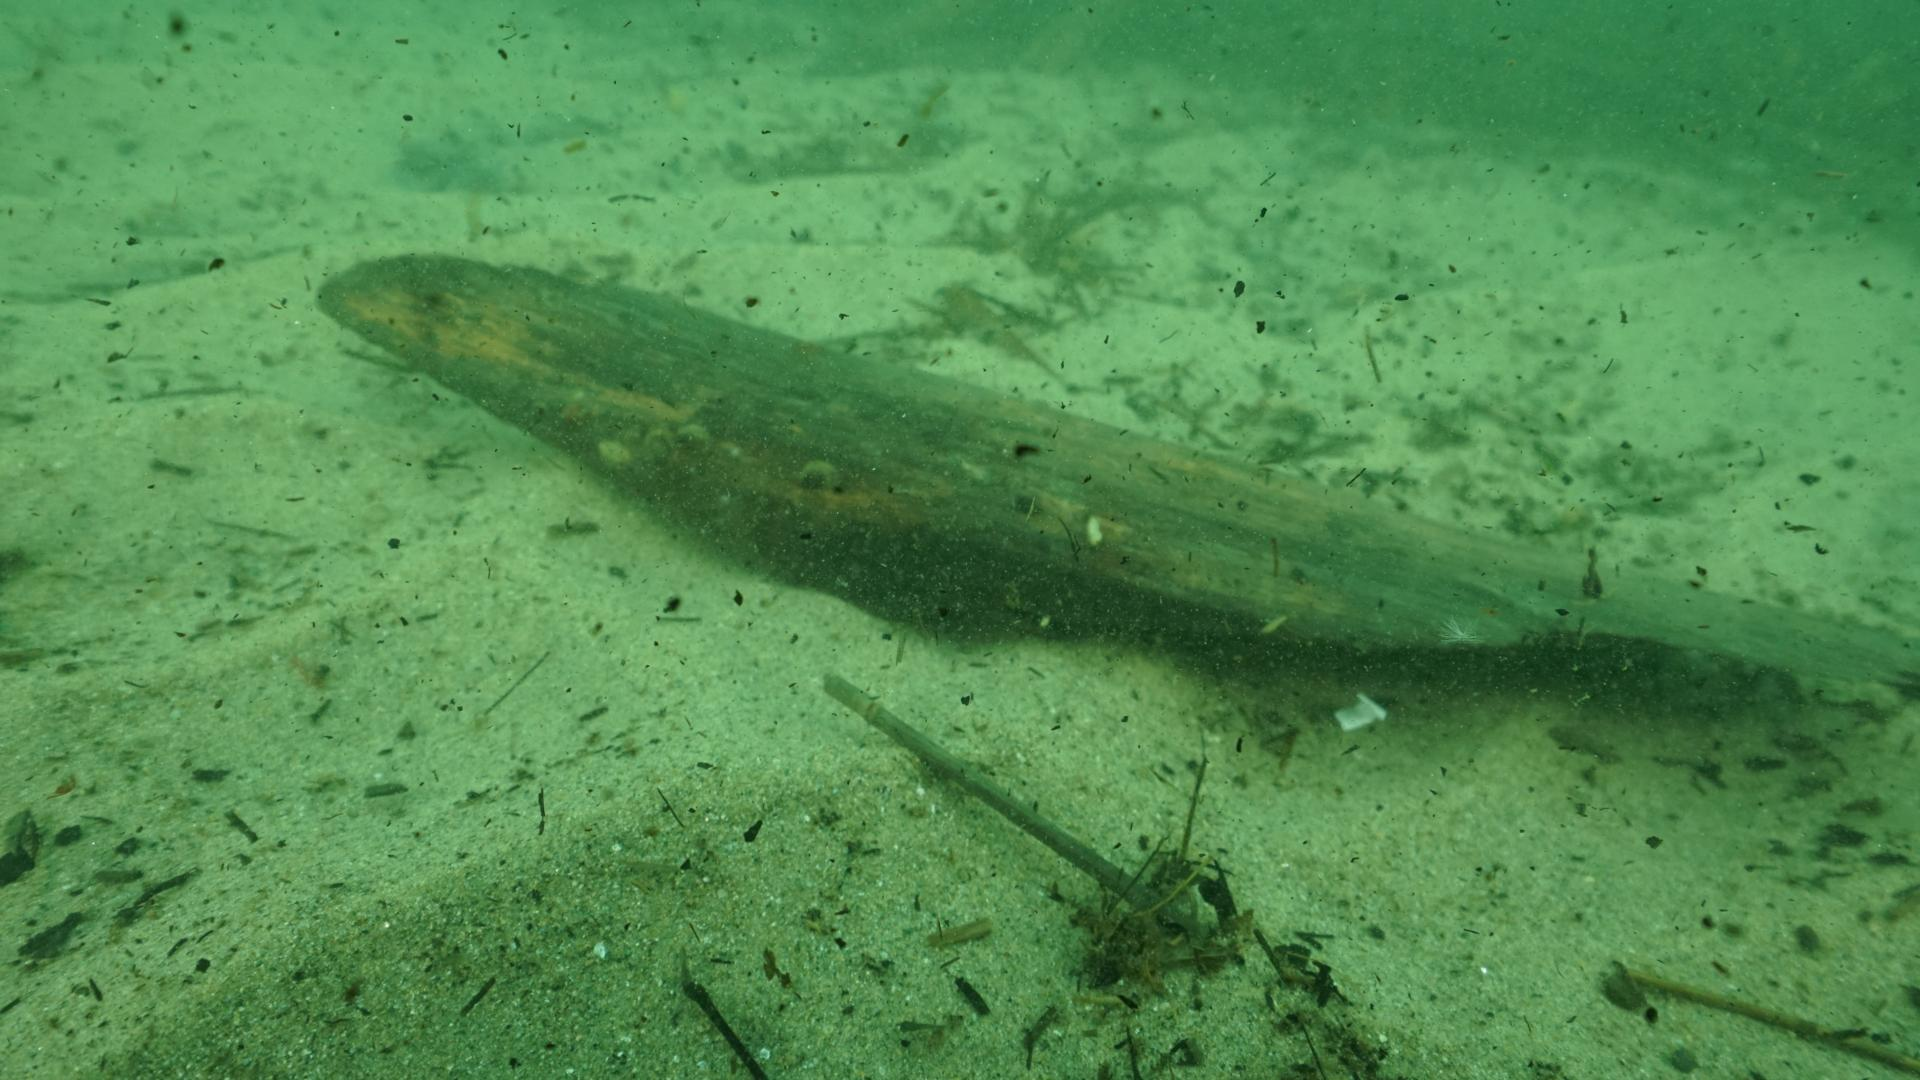wood: (311, 255, 1920, 729)
